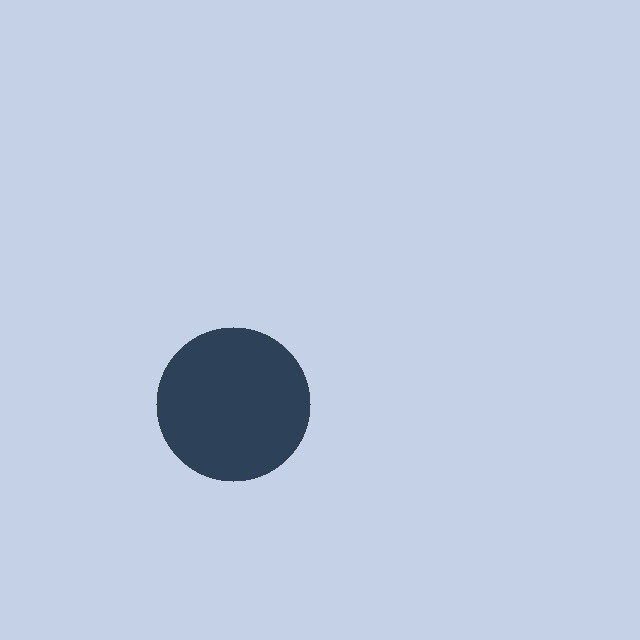circle: (156, 326, 311, 482)
